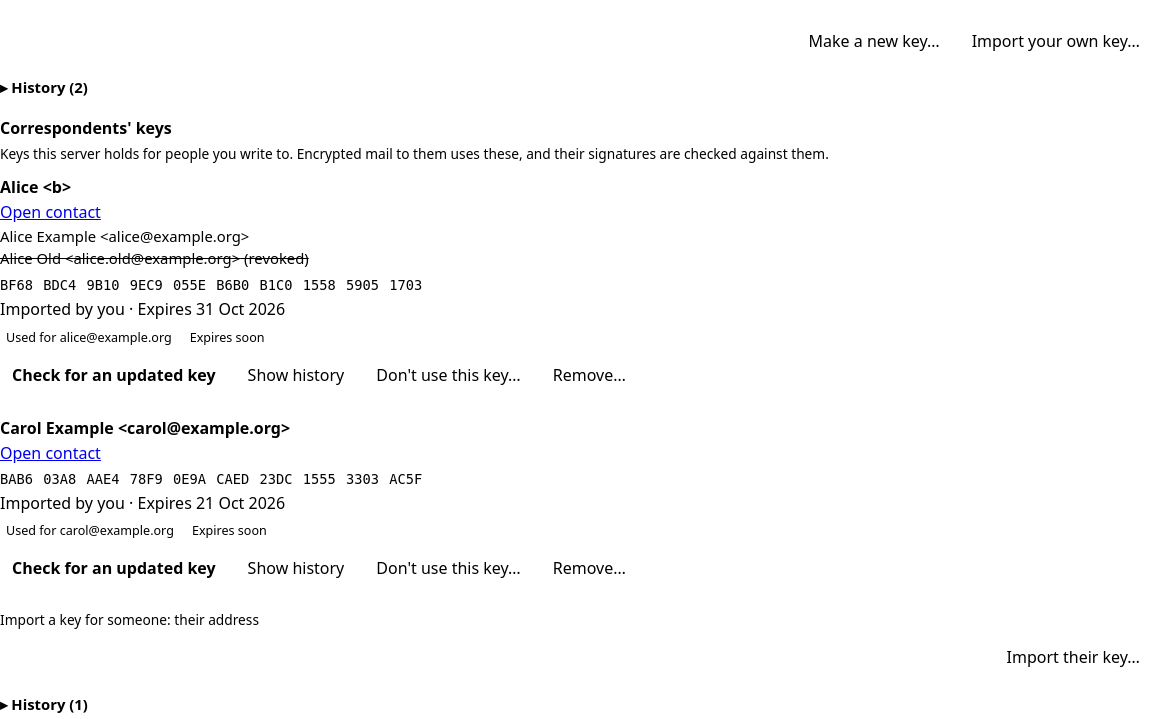
Test: correspondents' keys: history and removal (#815) › Remove says the key is kept and comes back, and points at Don't use this key
(page scrolled)
What coordinates should you click on to do the following:
click the button "Remove…" below "Carol Example <carol@example.org>"
I would click on:
 (589, 569)
Its box is [541,550,638,588].
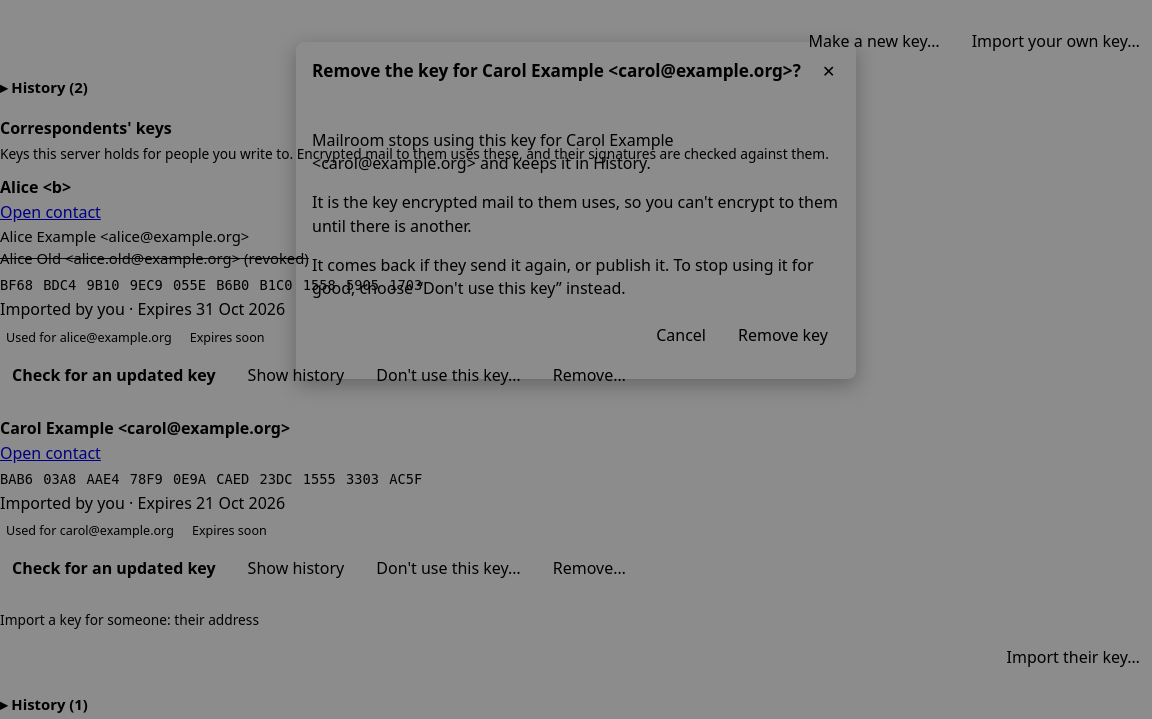
Expected: the dialog shows "It comes back if they send it again, or publish it.", [312,254,814,299]
Expected: the dialog shows "To stop using it for good, choose “Don't use this key” instead.", [312,254,814,299]
